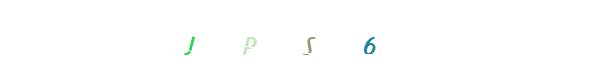6: (329, 0, 409, 80)
J: (150, 0, 230, 80)
P: (242, 0, 322, 80)
S: (260, 0, 340, 80)
